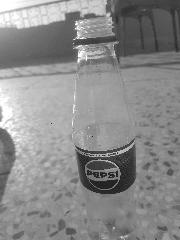plastic: (71, 16, 137, 240)
